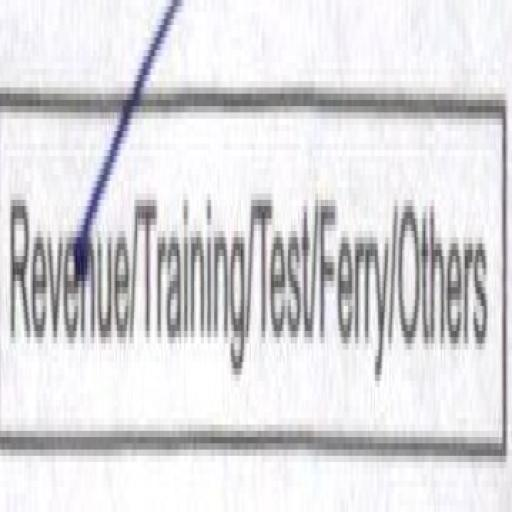check: (0, 2, 132, 426)
